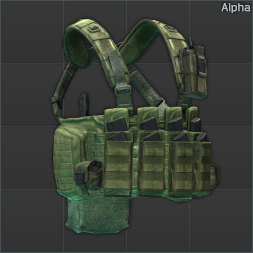ANA Tactical Alpha chest rig: (0, 0, 253, 253)
